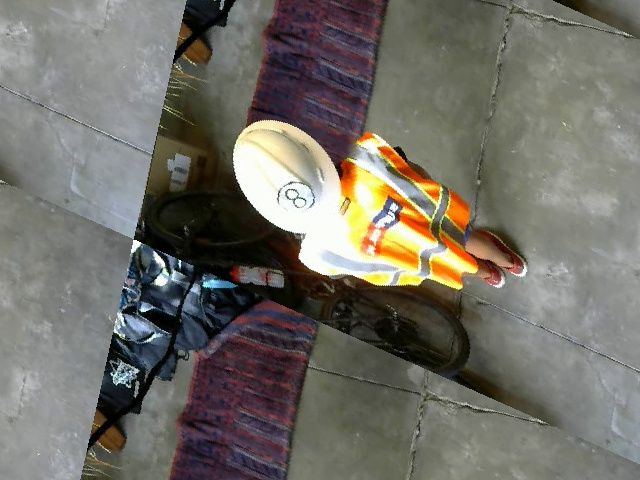eight: (274, 173, 317, 223)
